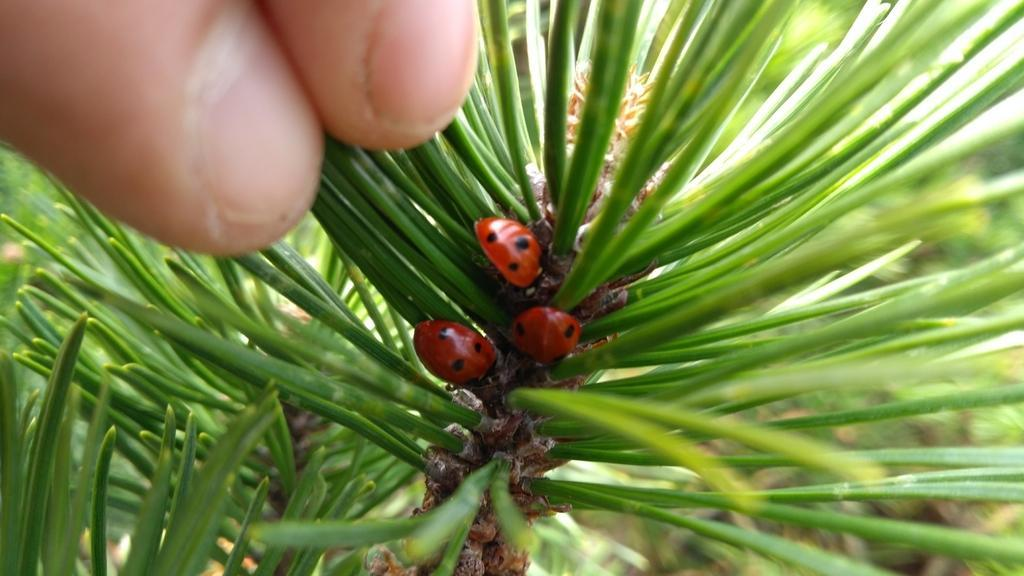ladybug: (468, 211, 556, 301), (408, 314, 506, 394), (506, 304, 588, 374)
